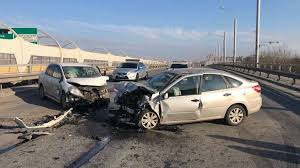car: (117, 60, 269, 130), (41, 57, 114, 107)
